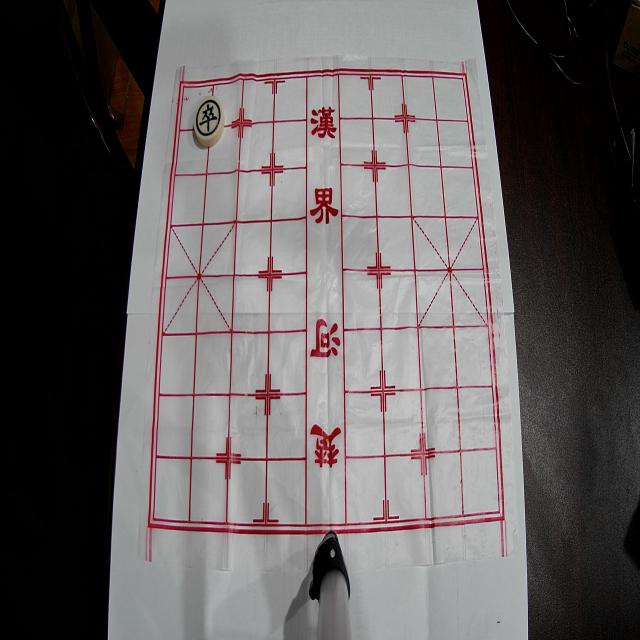black-soldier: (193, 96, 224, 147)
